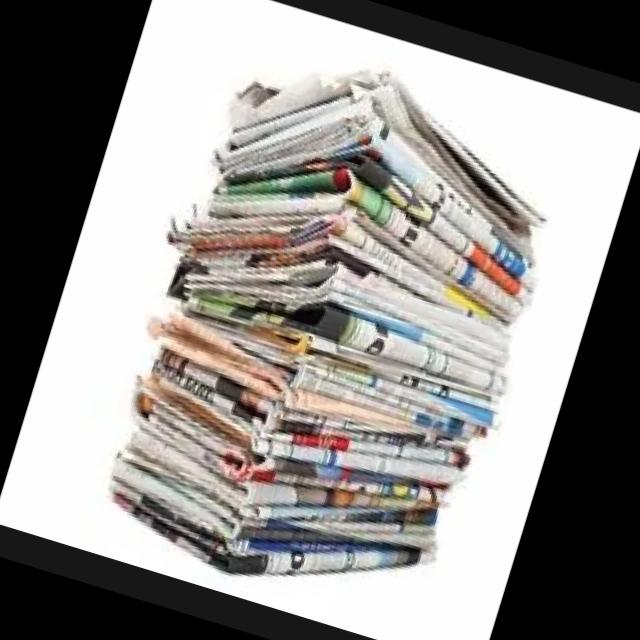Koran: (78, 19, 590, 636)
